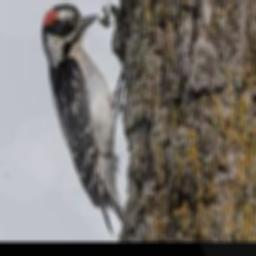Woodpecker: (40, 3, 124, 238)
